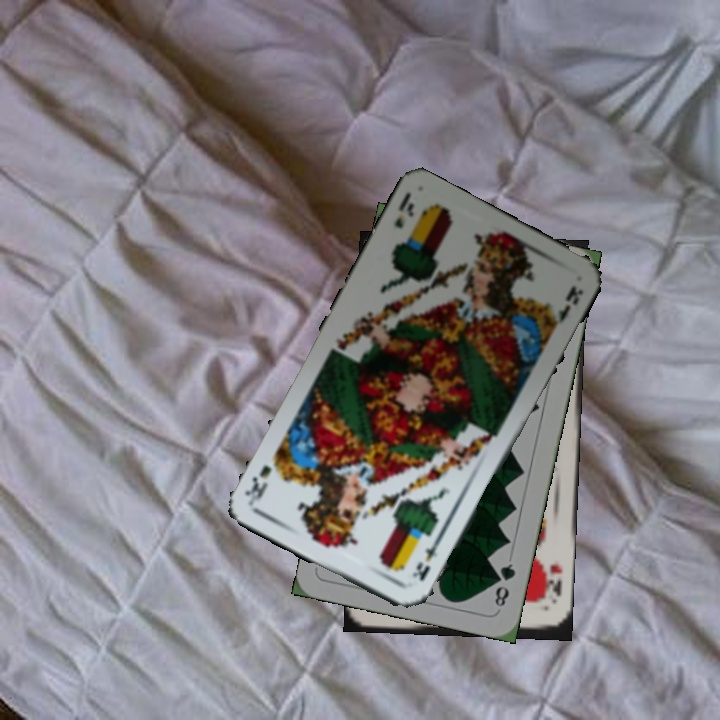EK: (408, 534, 444, 584), (390, 189, 417, 231)
G8: (490, 559, 518, 610)
HK: (538, 559, 565, 606)
